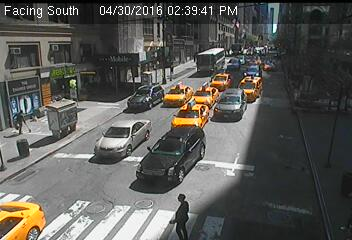neg: (88, 107, 126, 158), (152, 19, 183, 60), (296, 113, 321, 146), (224, 61, 246, 89), (10, 137, 31, 165), (200, 22, 218, 46), (118, 78, 136, 102), (268, 88, 285, 110), (190, 50, 205, 71), (251, 39, 261, 53), (225, 34, 234, 46)
pos: (165, 190, 200, 237)
